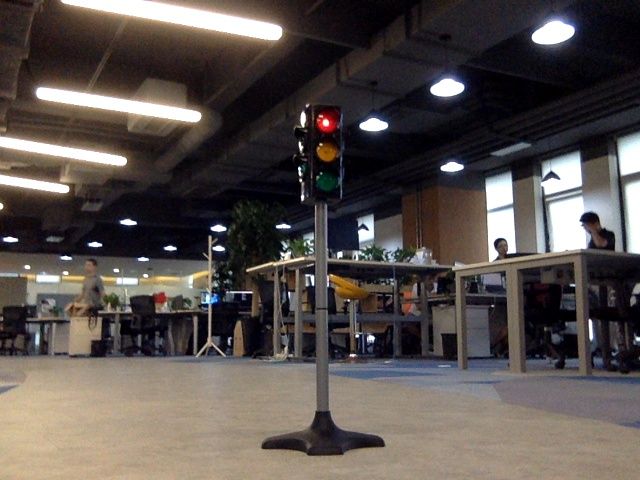red: (311, 108, 337, 194)
